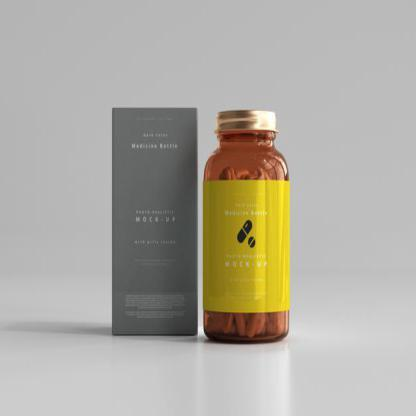jar: (204, 111, 288, 342)
